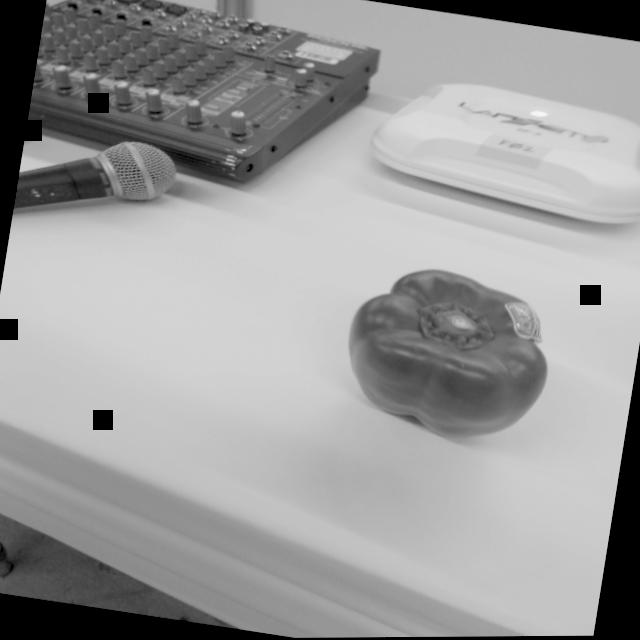paprika: (326, 249, 570, 460)
